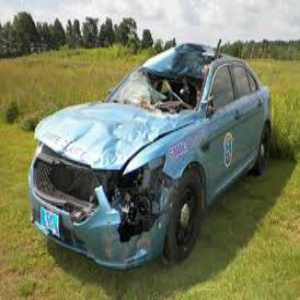bonnet: (61, 107, 159, 155)
bumper: (77, 202, 167, 270)
front_windshield_glass: (120, 71, 198, 106)
